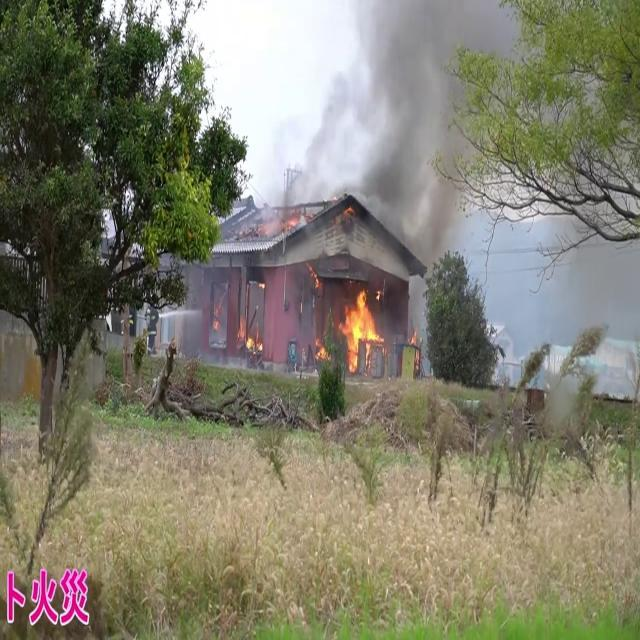Fire: (337, 282, 383, 369)
Smoke: (266, 0, 478, 243)
